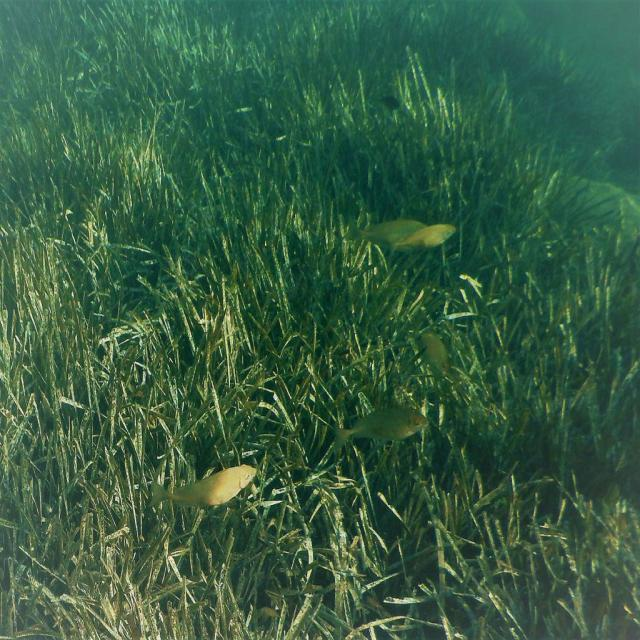Sokar Baligi: (159, 447, 269, 534), (322, 390, 440, 464)
